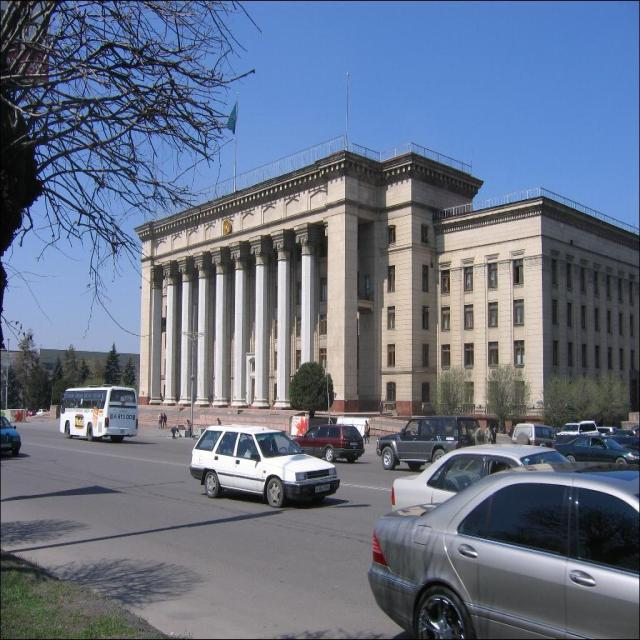car: (188, 423, 340, 508)
